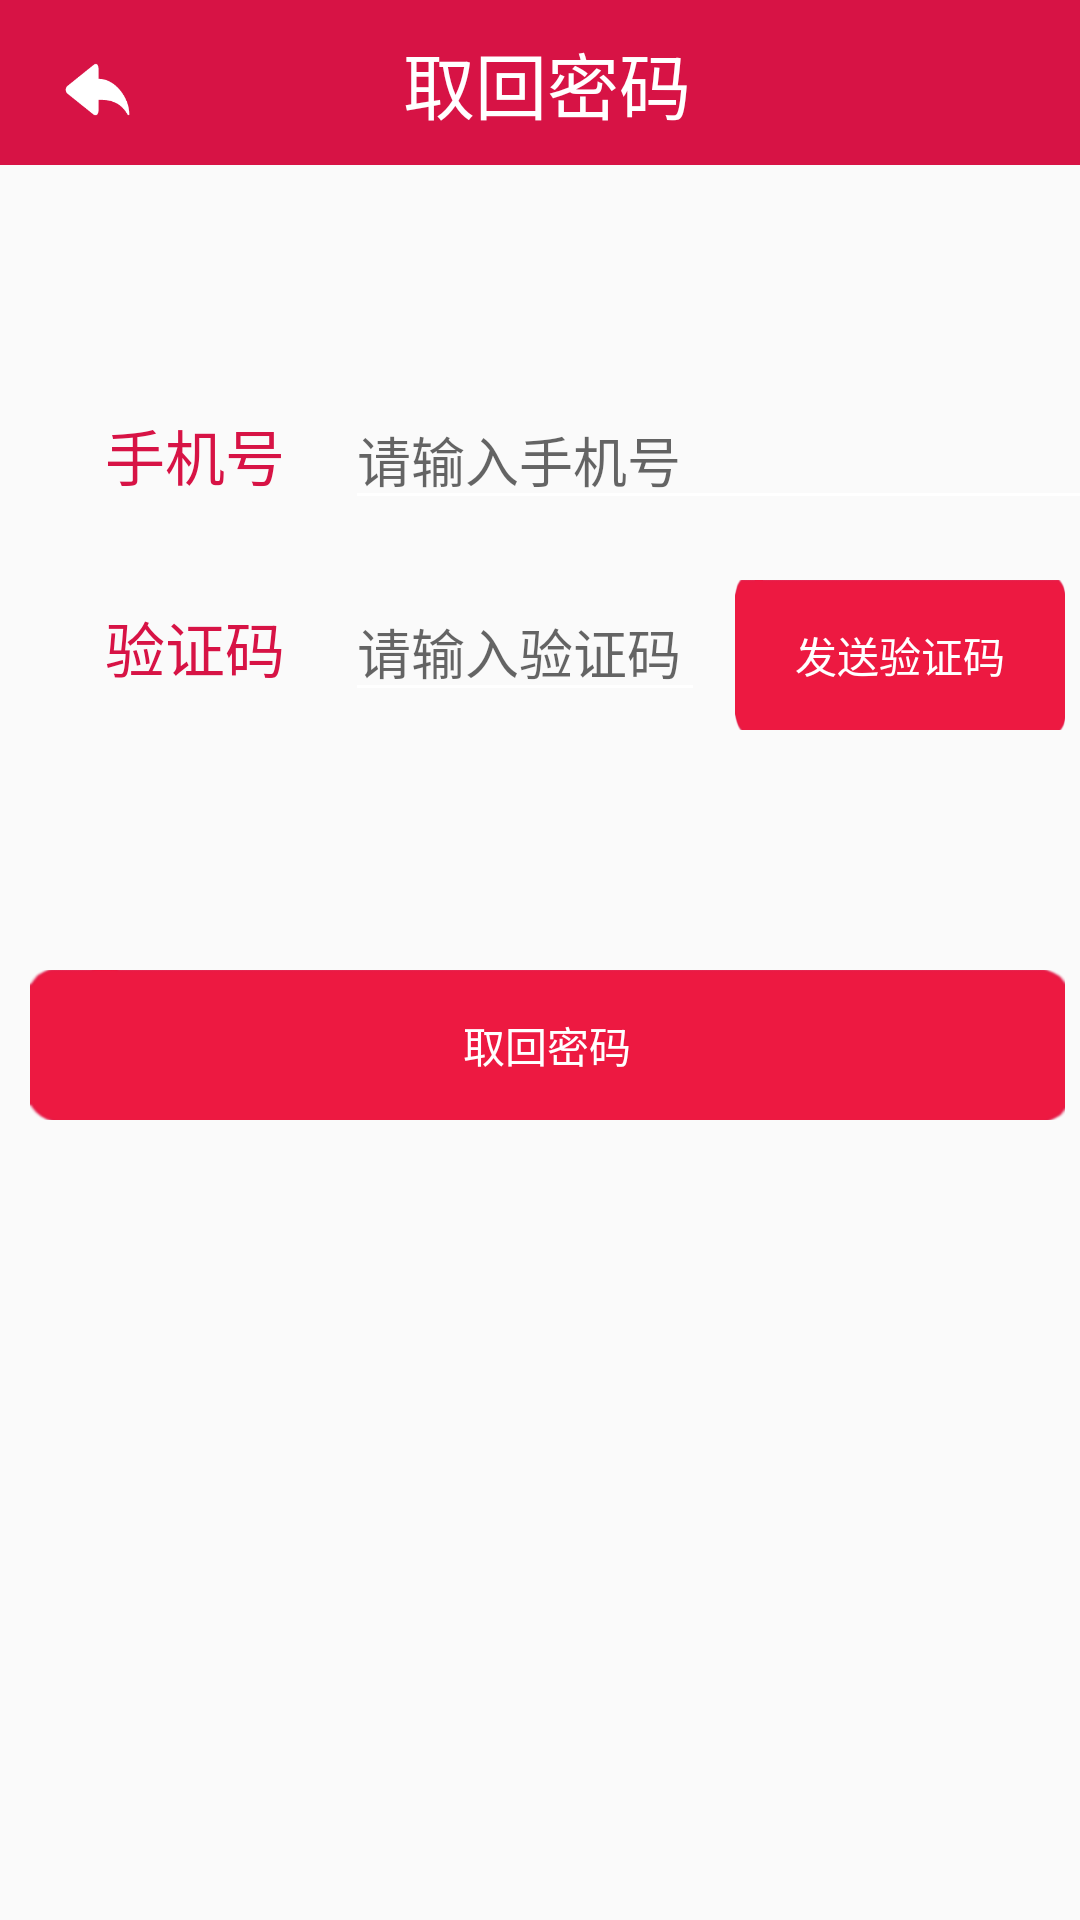

Named icons in this screenshot (1080 × 1920) and their centers, point (x, y):
login back: point (97, 90)
